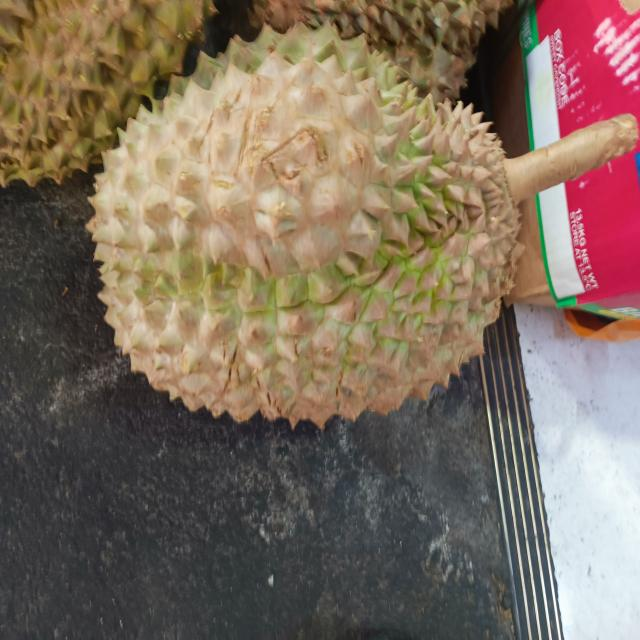mature: (87, 18, 527, 432), (1, 2, 213, 191), (315, 2, 509, 113)
